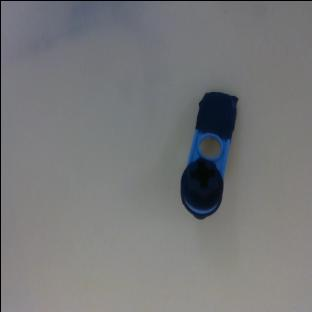part_1_bad: (174, 88, 239, 222)
